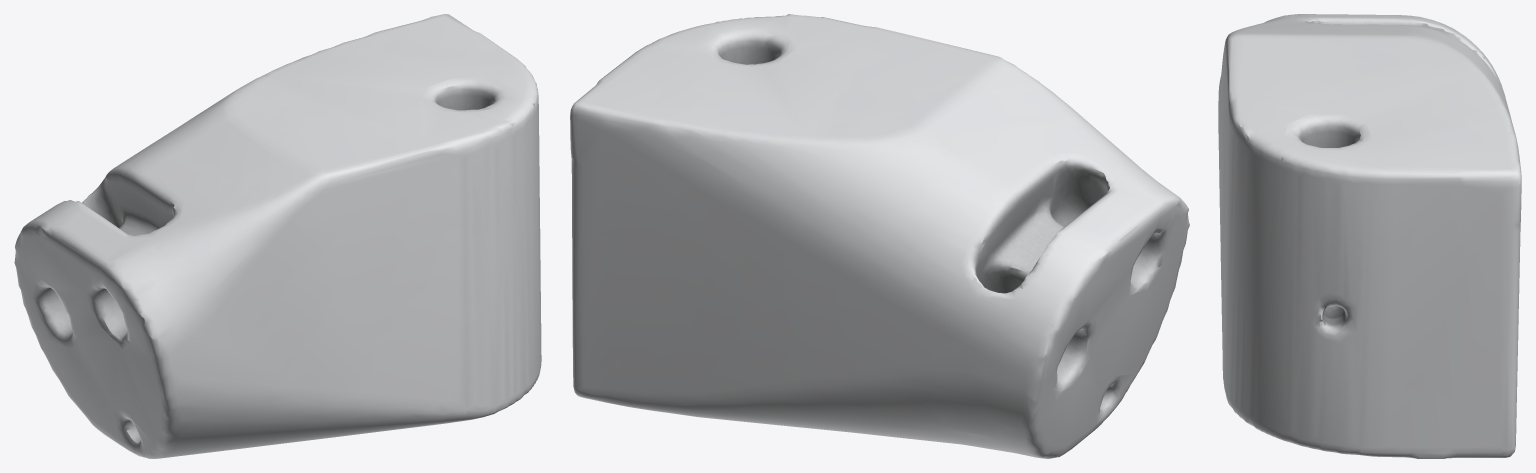
Rendered from right_thomb_to_palm.glb.
The picture shows the model from 3 angles, left to right: view 1: azimuth 30°, elevation 25°; view 2: azimuth 150°, elevation 25°; view 3: azimuth 270°, elevation 25°; orthographic projection. The views are drawn at different scales.
Visible parts, largest first — view 1: right_thomb_to_palm; view 2: right_thomb_to_palm; view 3: right_thomb_to_palm.
Boxes of the visible parts, x1,y1,x2,y2 form: right_thomb_to_palm: (14, 14, 541, 458); right_thomb_to_palm: (570, 14, 1189, 458); right_thomb_to_palm: (1218, 14, 1521, 458).
Size of the model in its own units: 0.0344 by 0.0204 by 0.0192.
Materials: 1 (1 with a texture image).
